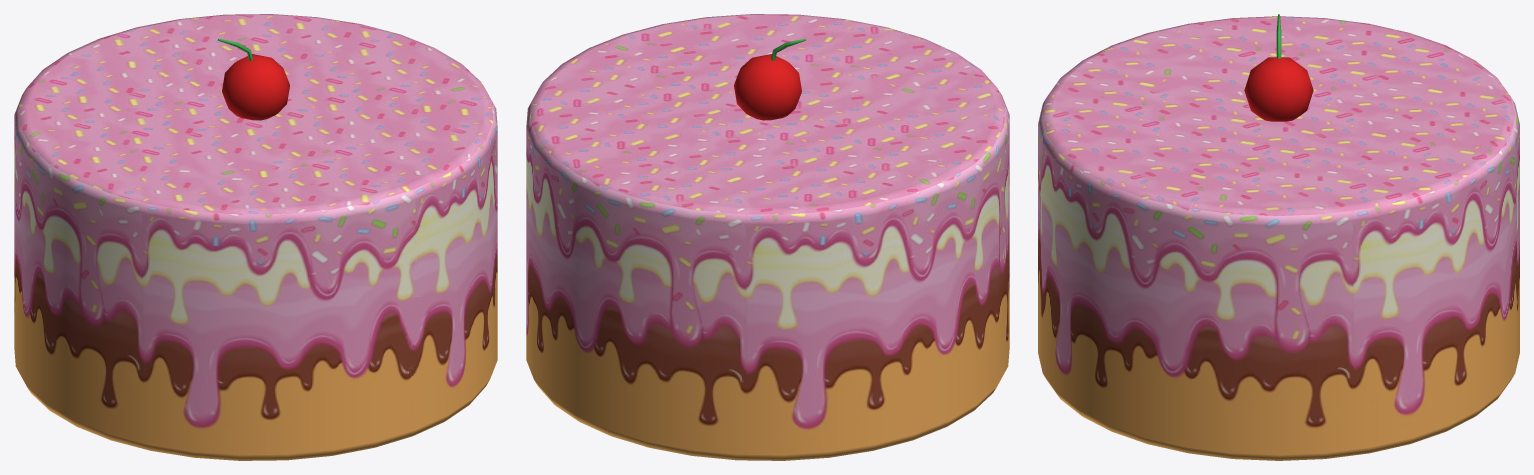
File: 3-cake.glb
The picture shows the model from 3 angles, left to right: view 1: azimuth 30°, elevation 25°; view 2: azimuth 150°, elevation 25°; view 3: azimuth 270°, elevation 25°; orthographic projection.
Parts seen in each view (by area): view 1: cake.001; view 2: cake.001; view 3: cake.001.
Part boxes in pixels (x1,y1,x2,y2): cake.001: (14,14,497,460); cake.001: (526,14,1009,460); cake.001: (1038,14,1519,460).
Bounding box in the file's own units: 7.73 × 5.88 × 7.73.
Materials: 1 (1 with a texture image).
